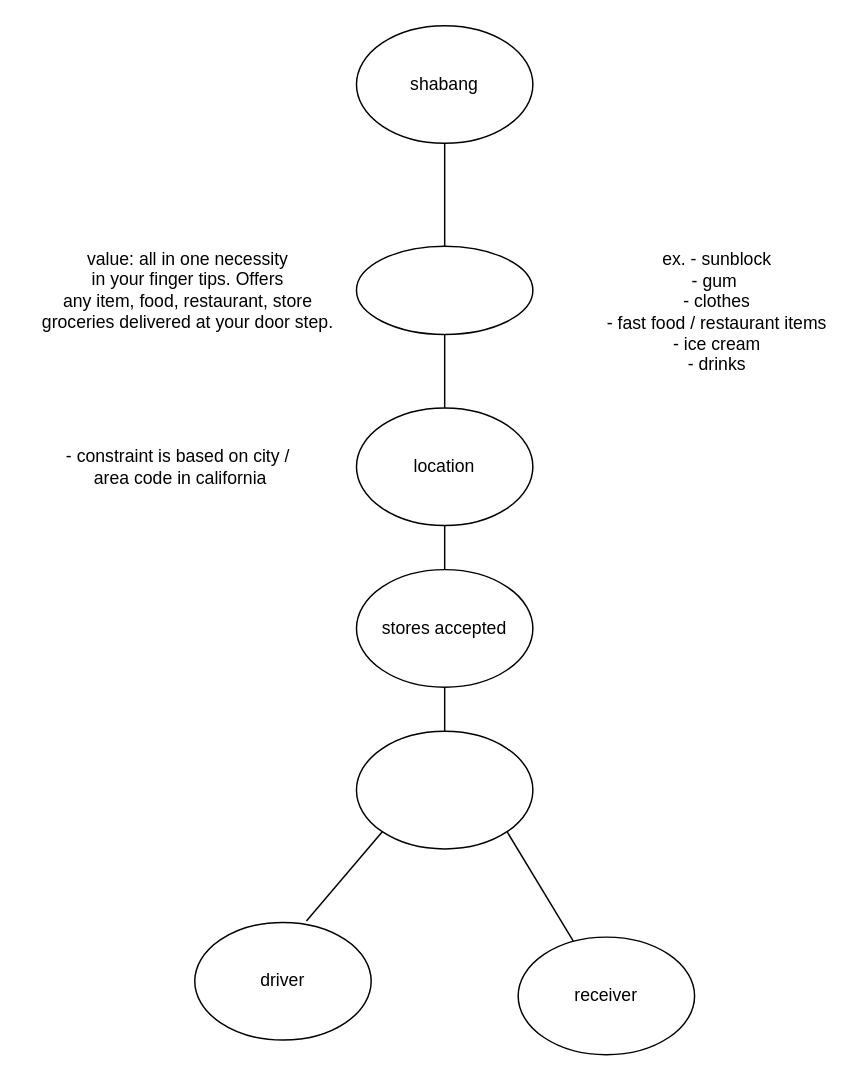
Image size: 866x1080. Some labels were removed from this diagram. The shapes that lost their labels are listed below. From the top down, each one's box as (x1, y1, x2, y2) in pixels, then its label:
(355, 245, 533, 334): convenience
(355, 730, 533, 849): account
